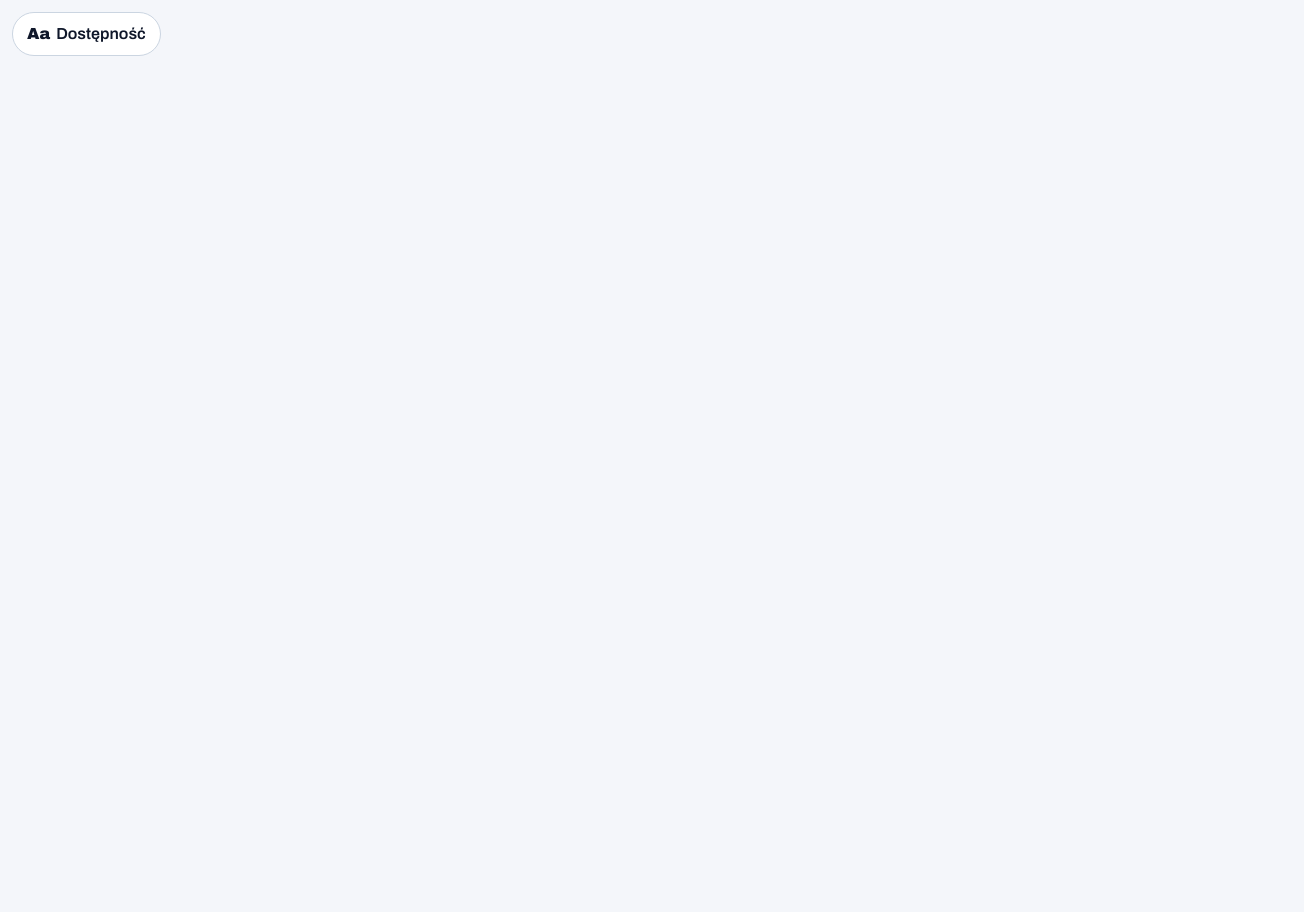
Scenario: menu Dostępność › rozmiar tekstu ma granice (przyciski wyłączają się na krańcach)
What coordinates should you click on to do the following:
click the button "Aa Dostępność"
I would click on:
 (86, 34)
Its box is [12,12,161,56].
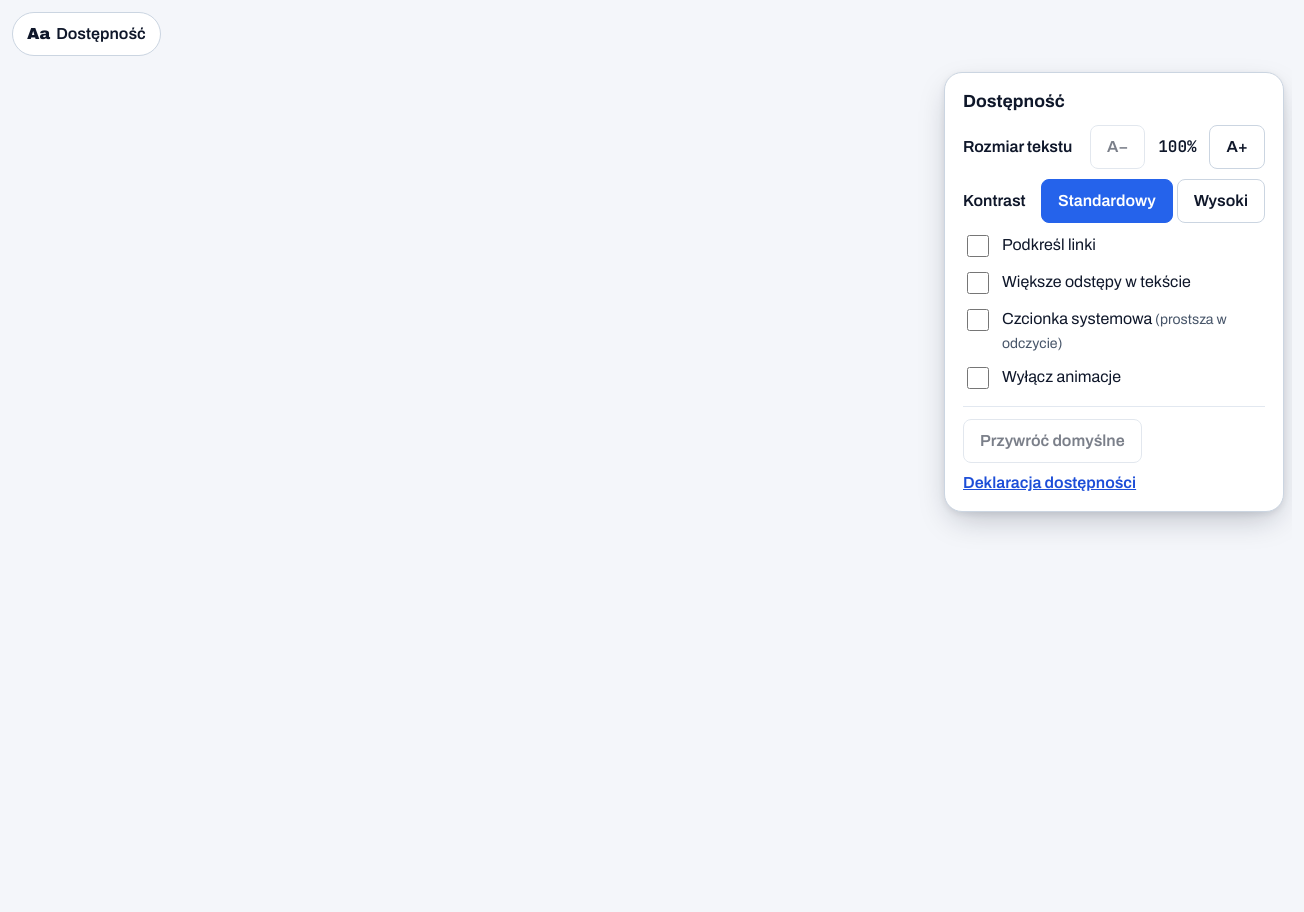
Check: the button named "Zmniejsz tekst" is disabled, box [1090,125,1145,169]
What coordinates should you click on to do the following:
click the button named "Powiększ tekst"
I would click on:
 (1237, 147)
Its box is [1210,125,1265,169].
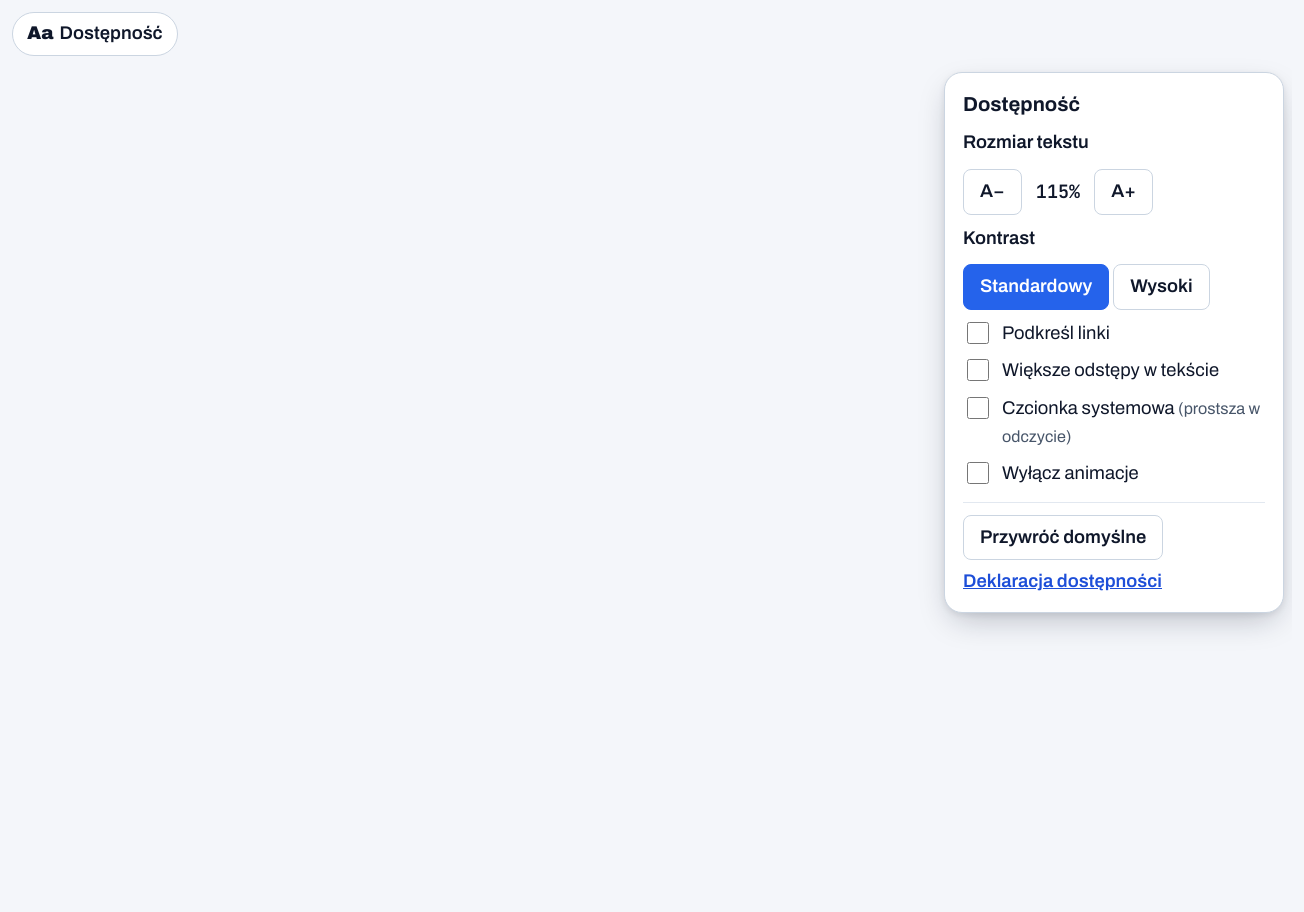
What coordinates should you click on to do the following:
click the button named "Powiększ tekst"
I would click on:
 (1124, 192)
Its box is [1094,169,1153,215].
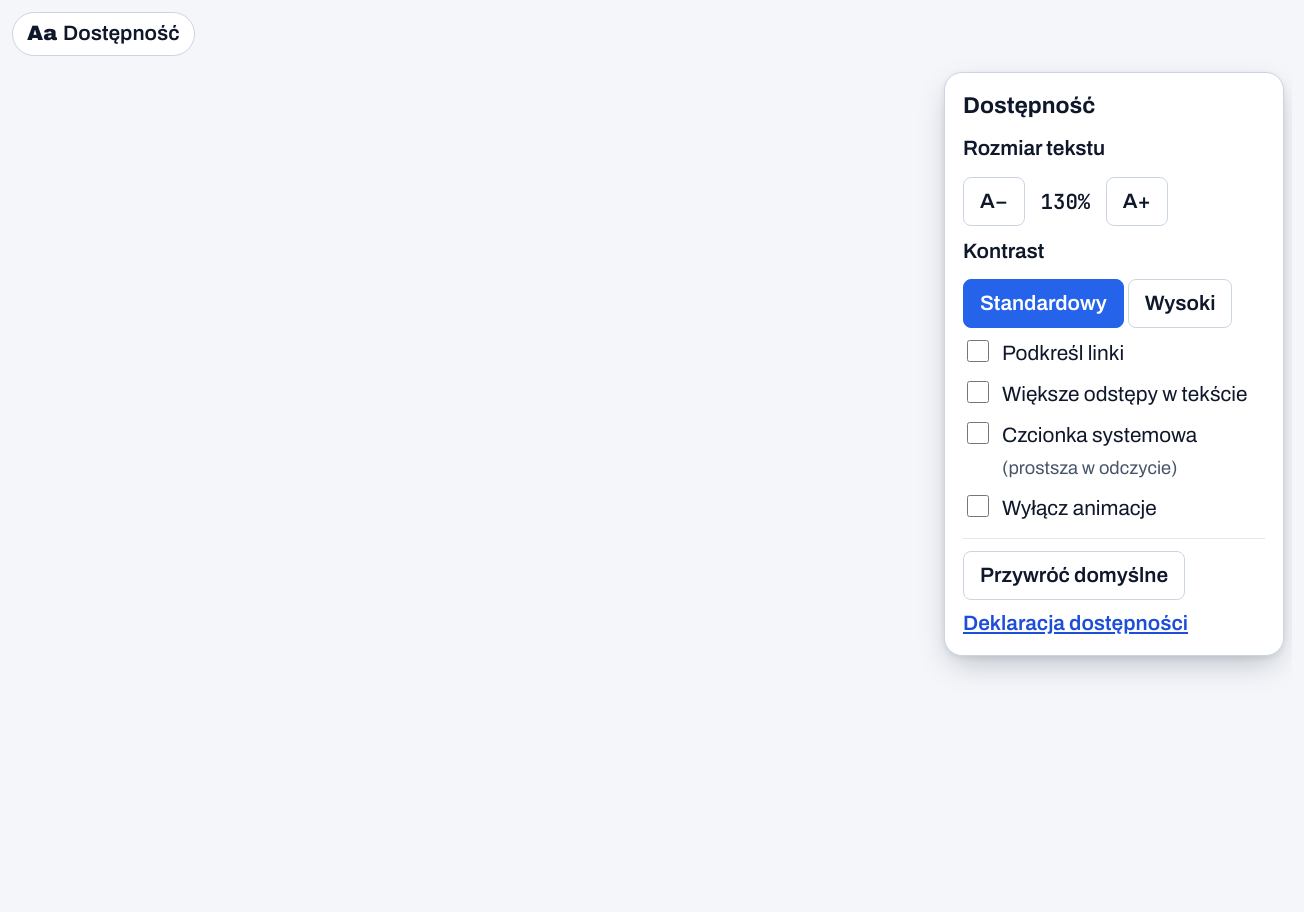
What coordinates should you click on to do the following:
click the button named "Powiększ tekst"
I would click on:
 (1137, 201)
Its box is [1106,176,1168,226].
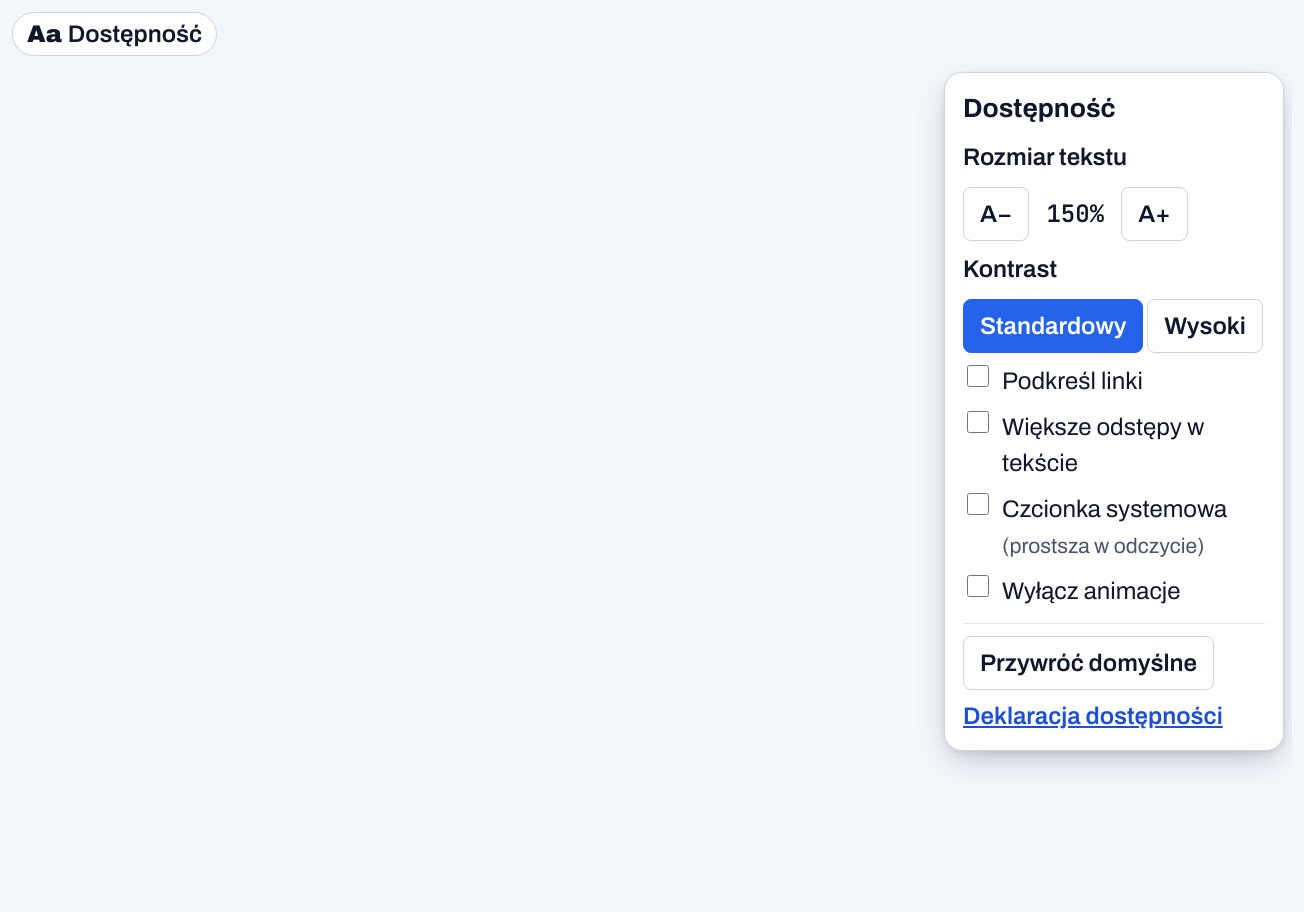
What coordinates should you click on to do the following:
click the button named "Powiększ tekst"
I would click on:
 (1154, 214)
Its box is [1121,187,1188,241].
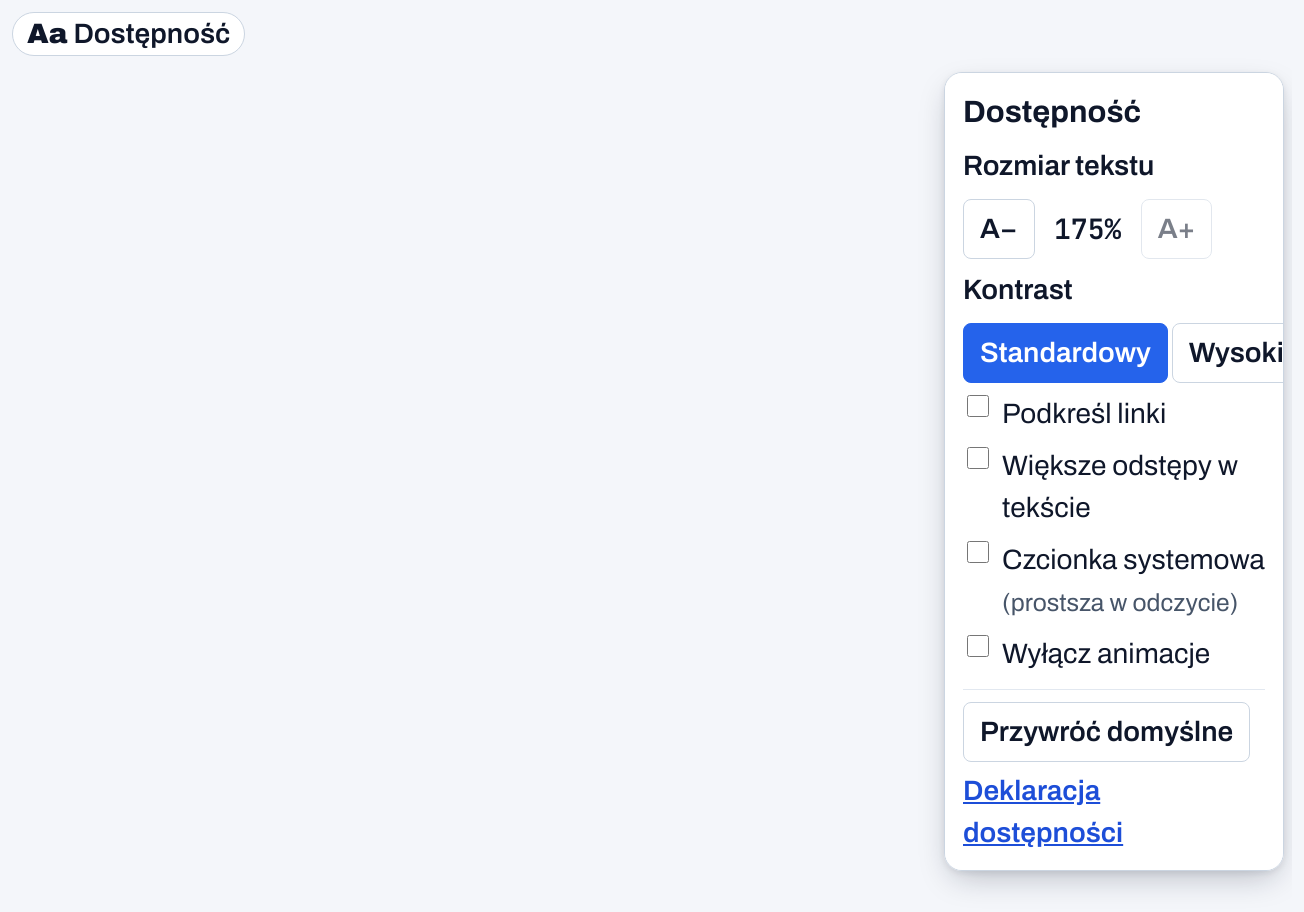
Check: the button named "Powiększ tekst" is disabled, box [1141,199,1212,259]
